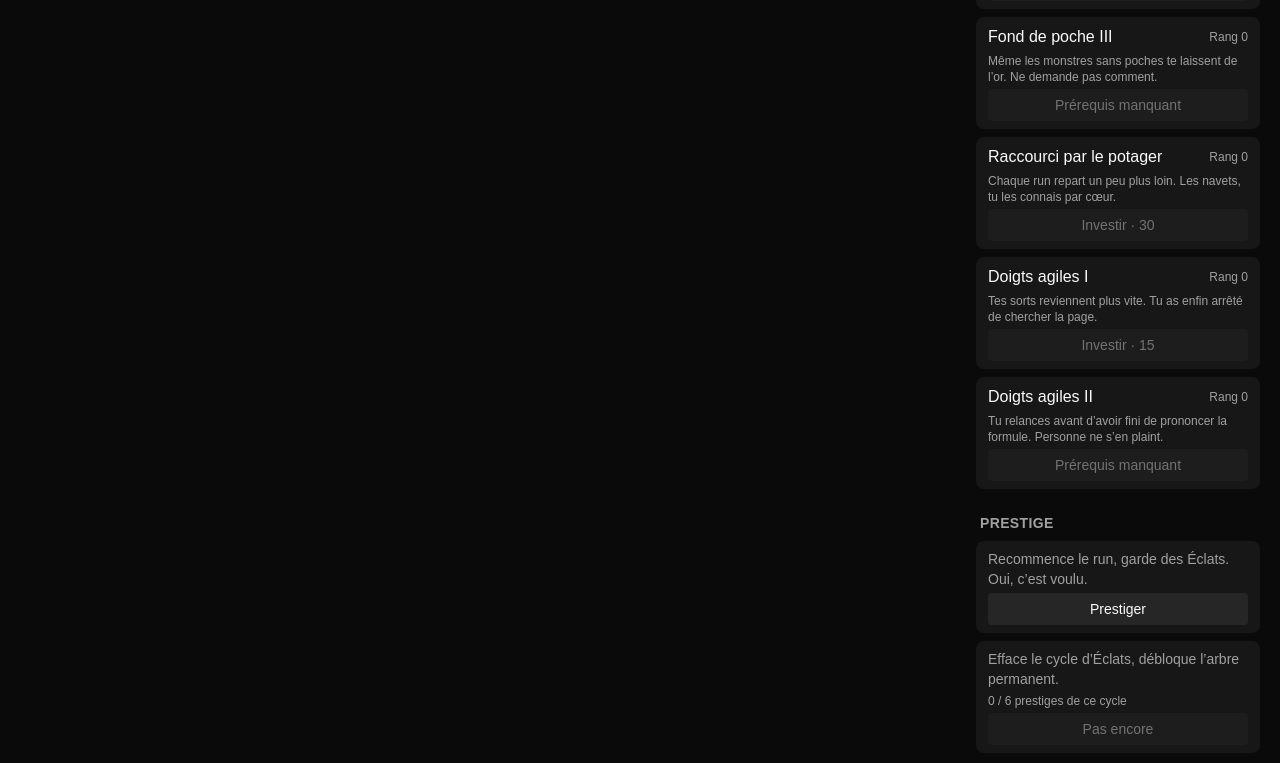
Test: confirmation à deux étapes — prestige (EXG-19/21) › Échap annule la modale sans rien modifier
(page scrolled)
Click the button with test id "bouton-declencher-prestige". click: (1118, 609)
box: [988, 593, 1248, 625]
(page scrolled)
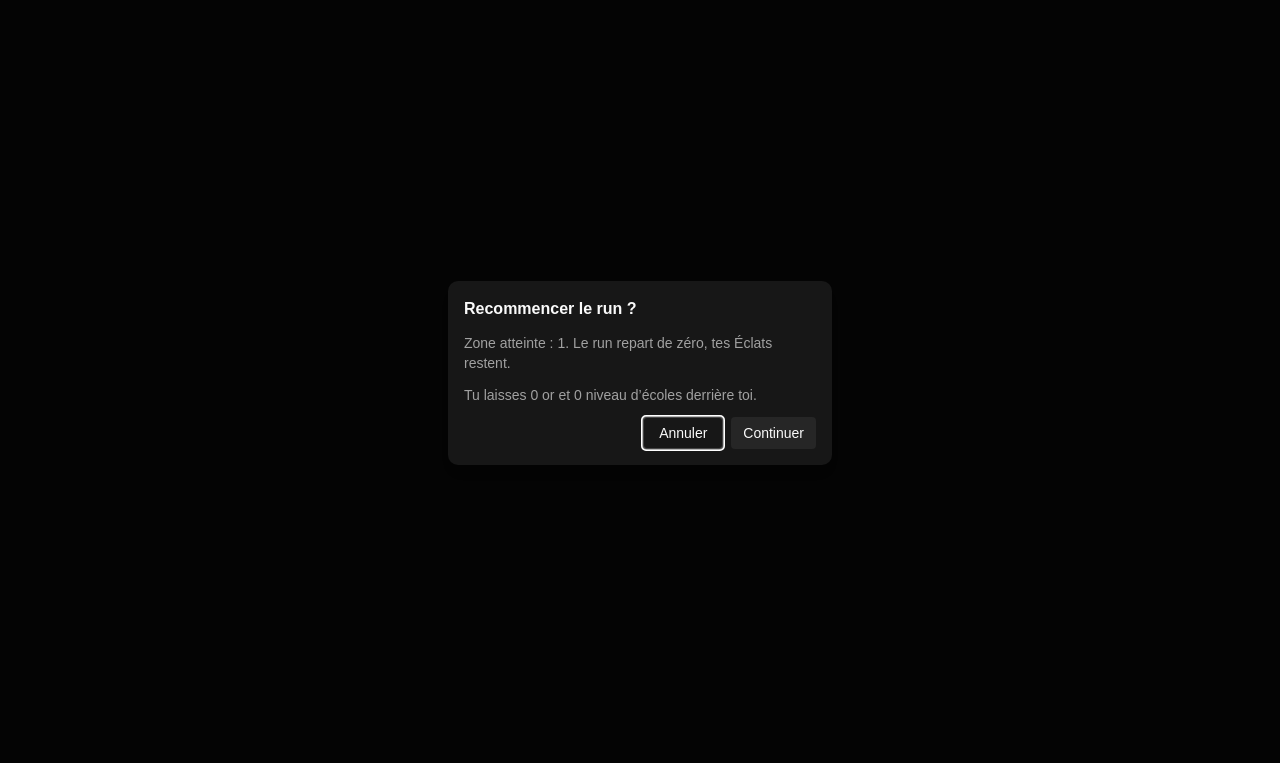
Expected: the dialog "Recommencer le run ?" is shown, [448, 281, 832, 465]
Press Escape
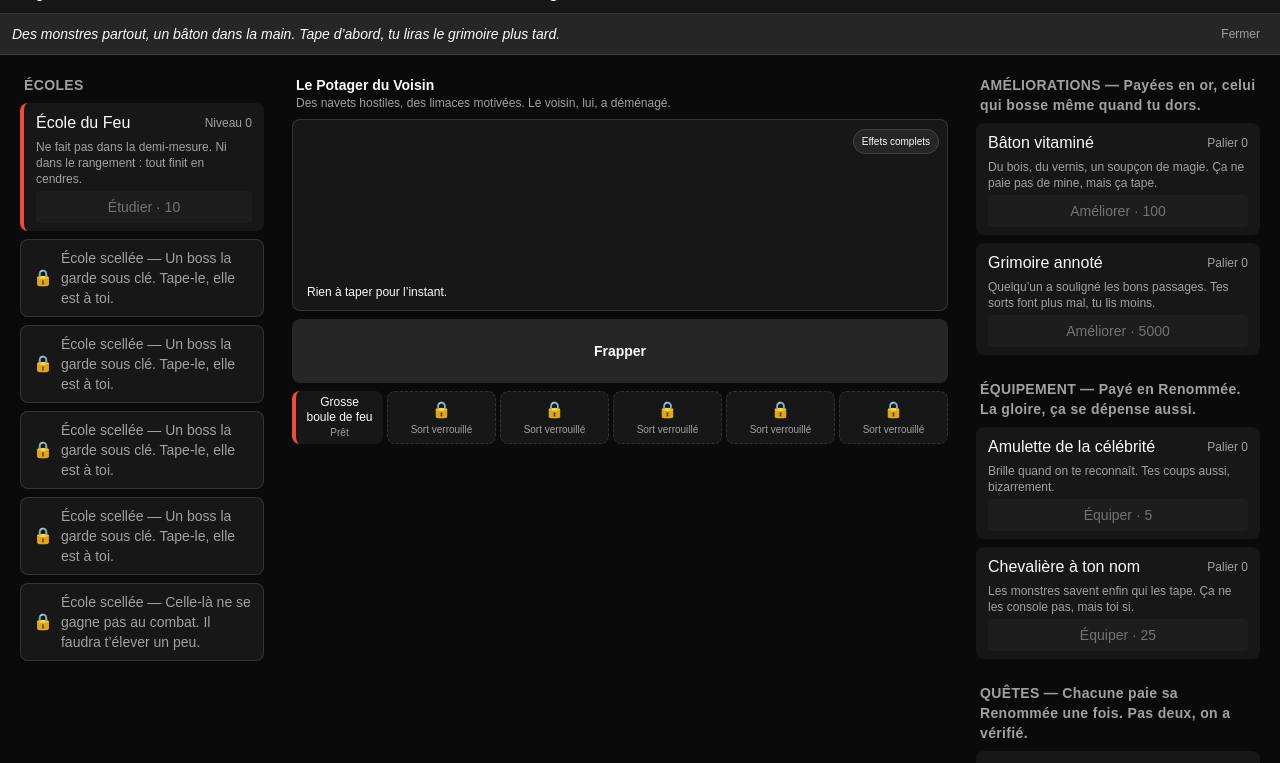
Expected: the dialog is gone
